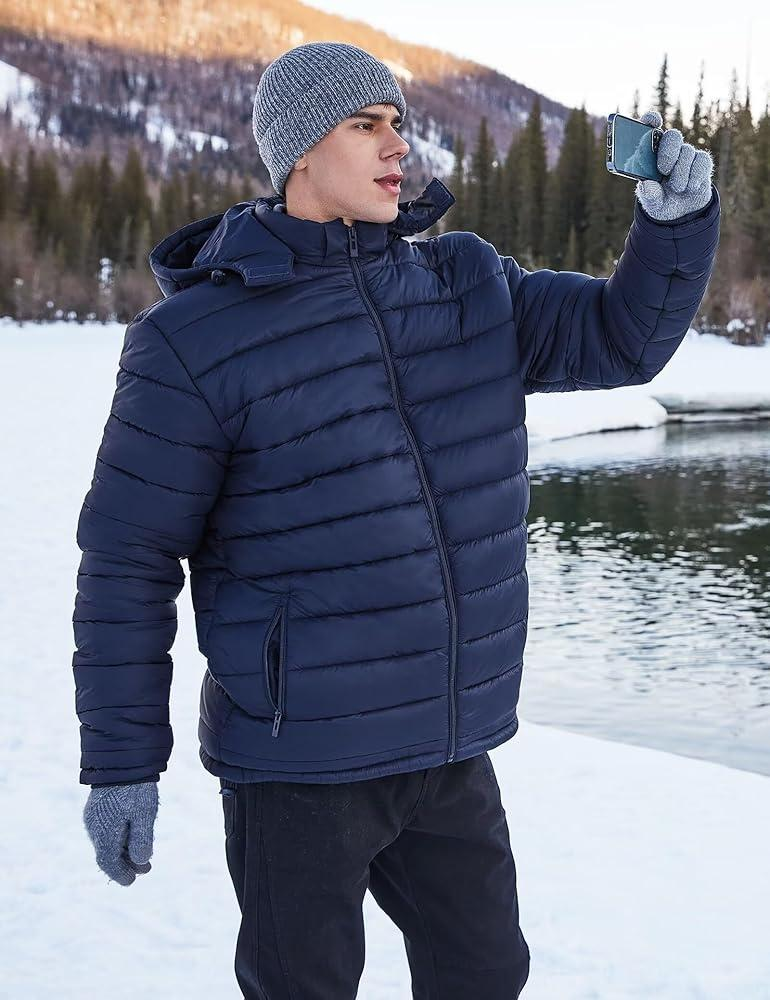coat: (68, 180, 724, 792)
trousers: (213, 752, 536, 1000)
